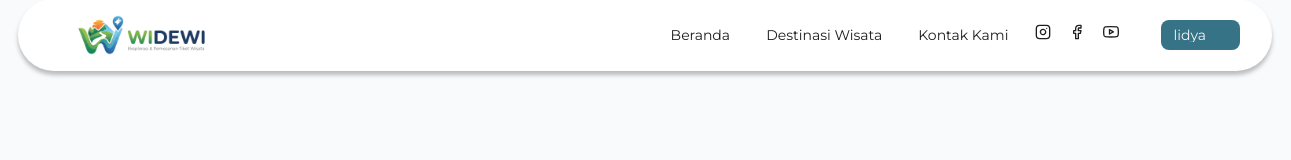
it: PublicHeader › replaces Masuk with the username and offers Keluar in a menu
Click the button with test id "public-header-user": [1201, 35] box [1162,20,1240,50]
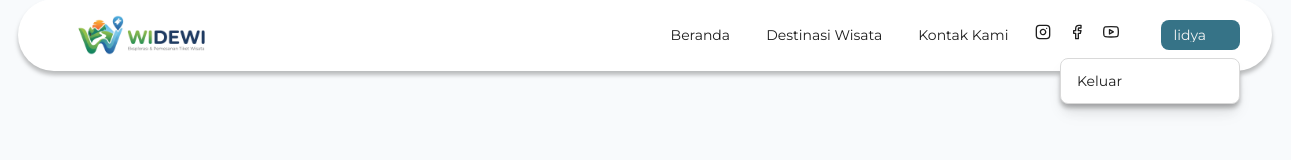
Click the menu item with test id "public-header-logout": [1150, 81] box [1061,63,1239,99]
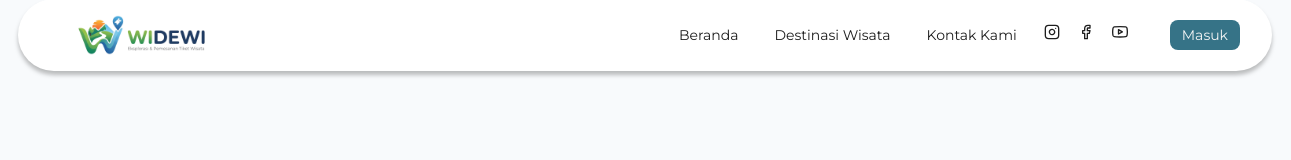
Check: the button with test id "public-header-login" is shown, box [1170,20,1240,50]
